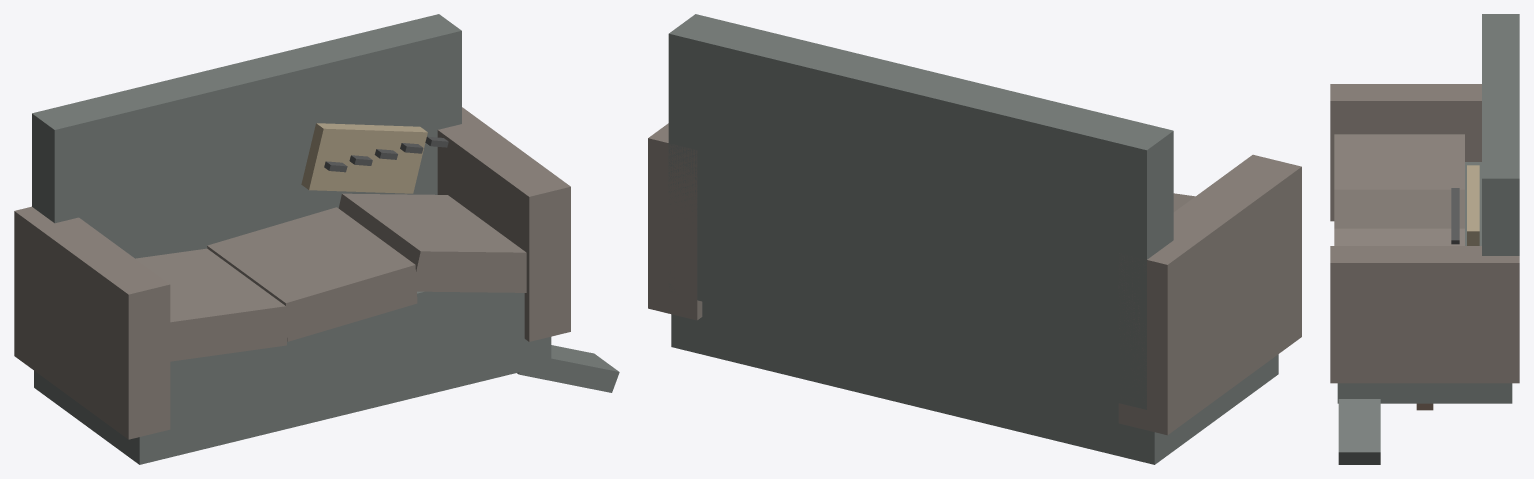
Rendered from Torn_Sofa.glb.
3 renders of one model, left to right at view 1: azimuth 30°, elevation 25°; view 2: azimuth 150°, elevation 25°; view 3: azimuth 270°, elevation 25°, orthographic. The views are drawn at different scales.
Parts seen in each view (by area): view 1: Torn_Sofa_piece_001, Torn_Sofa_piece_000, Torn_Sofa_piece_002, Torn_Sofa_piece_005, Torn_Sofa_piece_003, Torn_Sofa_piece_006, Torn_Sofa_piece_004, Torn_Sofa_piece_007, Torn_Sofa_piece_015; view 2: Torn_Sofa_piece_001, Torn_Sofa_piece_002, Torn_Sofa_piece_000, Torn_Sofa_piece_003; view 3: Torn_Sofa_piece_003, Torn_Sofa_piece_001, Torn_Sofa_piece_002, Torn_Sofa_piece_004, Torn_Sofa_piece_005, Torn_Sofa_piece_000, Torn_Sofa_piece_015, Torn_Sofa_piece_006, Torn_Sofa_piece_007.
Boxes of the visible parts, box(x1,y1,x2,y2) form: Torn_Sofa_piece_001: box(32, 14, 461, 258); Torn_Sofa_piece_000: box(34, 291, 551, 464); Torn_Sofa_piece_002: box(14, 206, 170, 439); Torn_Sofa_piece_005: box(207, 207, 417, 341); Torn_Sofa_piece_003: box(437, 107, 570, 341); Torn_Sofa_piece_006: box(338, 193, 526, 292); Torn_Sofa_piece_004: box(135, 248, 290, 361); Torn_Sofa_piece_007: box(301, 123, 427, 193); Torn_Sofa_piece_015: box(517, 345, 619, 392); Torn_Sofa_piece_001: box(668, 14, 1173, 409); Torn_Sofa_piece_002: box(1118, 154, 1301, 435); Torn_Sofa_piece_000: box(671, 301, 1278, 464); Torn_Sofa_piece_003: box(648, 123, 702, 320); Torn_Sofa_piece_003: box(1330, 246, 1519, 383); Torn_Sofa_piece_001: box(1482, 14, 1519, 255); Torn_Sofa_piece_002: box(1330, 84, 1481, 221); Torn_Sofa_piece_004: box(1334, 134, 1464, 189); Torn_Sofa_piece_005: box(1334, 189, 1464, 228); Torn_Sofa_piece_000: box(1337, 162, 1512, 403); Torn_Sofa_piece_015: box(1338, 399, 1380, 464); Torn_Sofa_piece_006: box(1334, 228, 1464, 245); Torn_Sofa_piece_007: box(1467, 165, 1479, 245).
Size of the model in its own units: 2.25 by 1.37 by 0.9.
